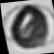correct: (0, 1, 54, 51)
